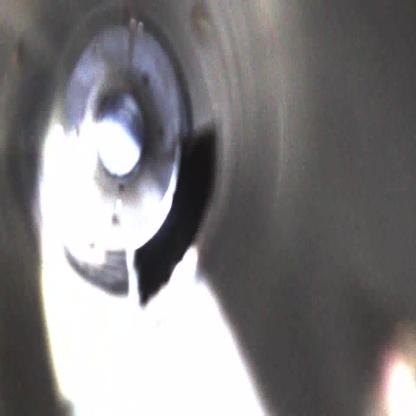Crack2: (128, 126, 220, 306)
